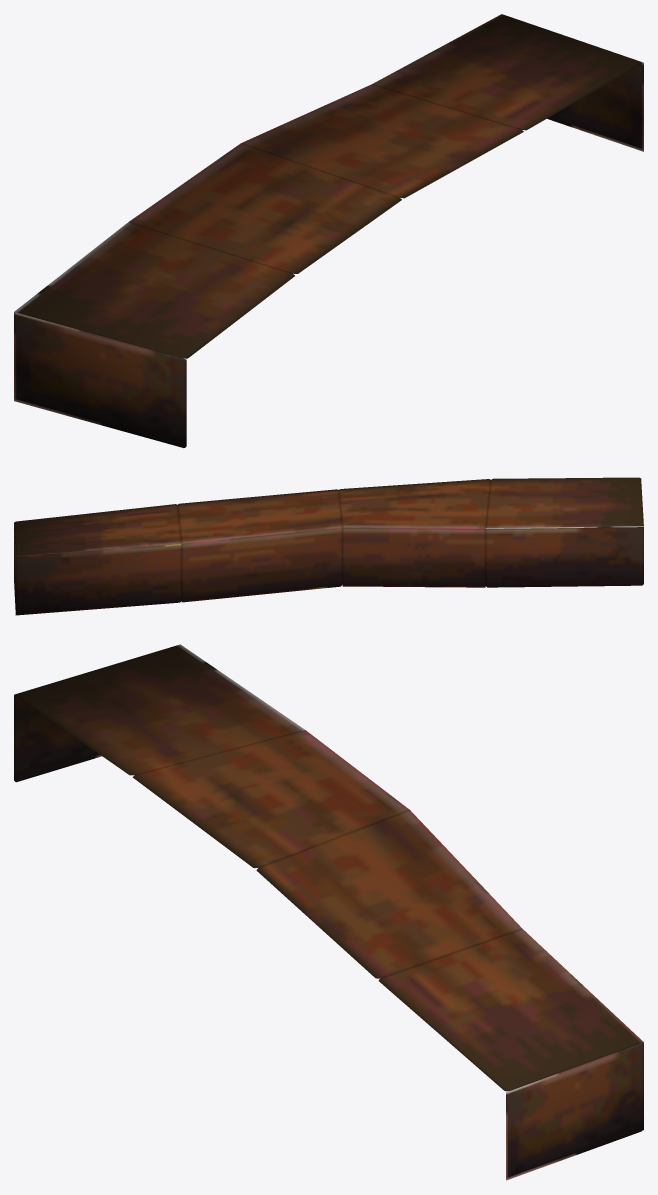
The picture shows the model from 3 angles, top to bottom: view 1: azimuth 30°, elevation 25°; view 2: azimuth 150°, elevation 25°; view 3: azimuth 270°, elevation 25°; orthographic projection. The views are drawn at different scales.
Parts seen in each view (by area): view 1: T1L4M004_8; view 2: T1L4M004_8; view 3: T1L4M004_8.
Part boxes in pixels (x1,y1,x2,y2): T1L4M004_8: (14, 14, 643, 447); T1L4M004_8: (14, 477, 643, 615); T1L4M004_8: (14, 644, 643, 1180).
Size of the model in its own units: 4.98 by 0.9248 by 3.46.
